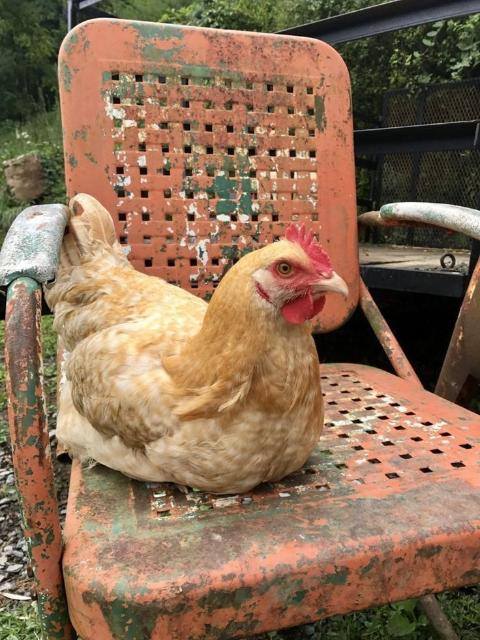Chicken: (55, 192, 354, 499)
